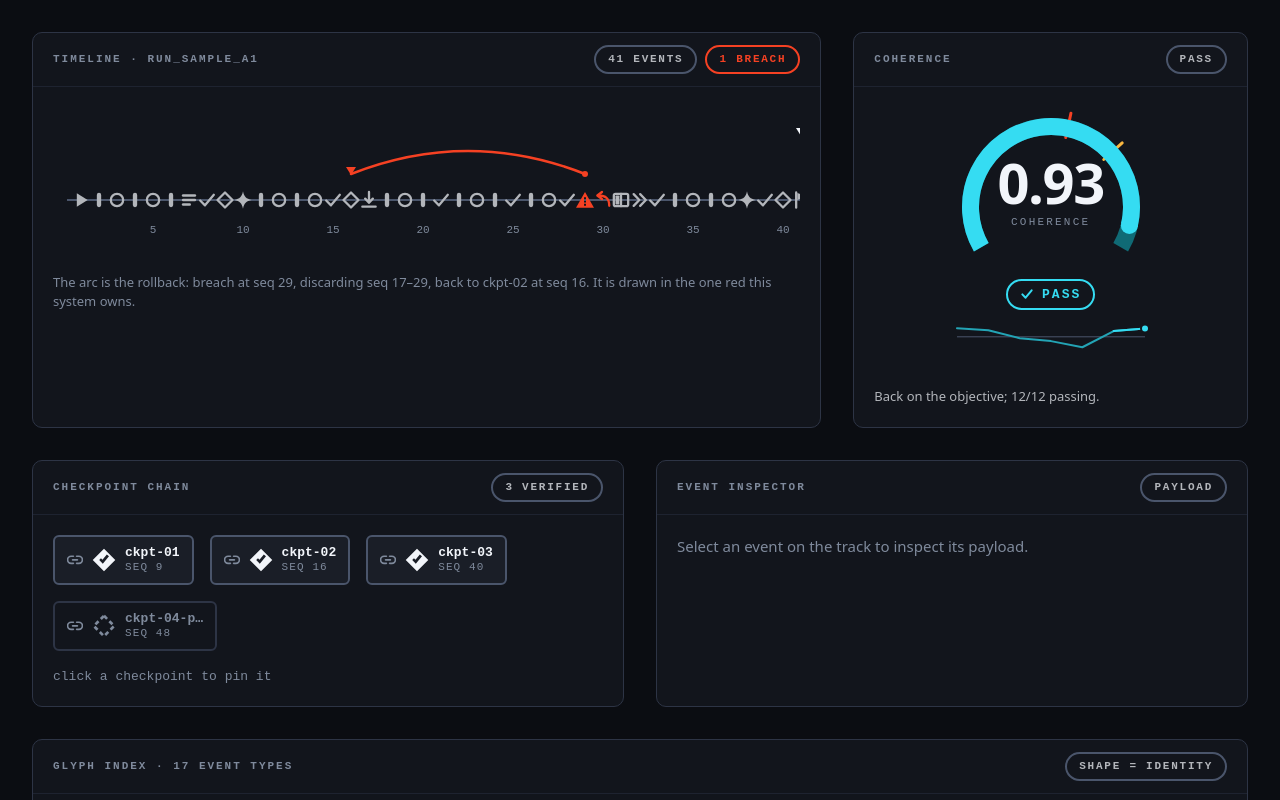
SampleScreen › wires the timeline selection through to the inspector
expect the text "Select an event on the track to inspect its payload." is shown: met, box [677,536,1028,556]
Click the button named "seq 29 · Breach". click: [585, 200]
box: [570,184,600,214]
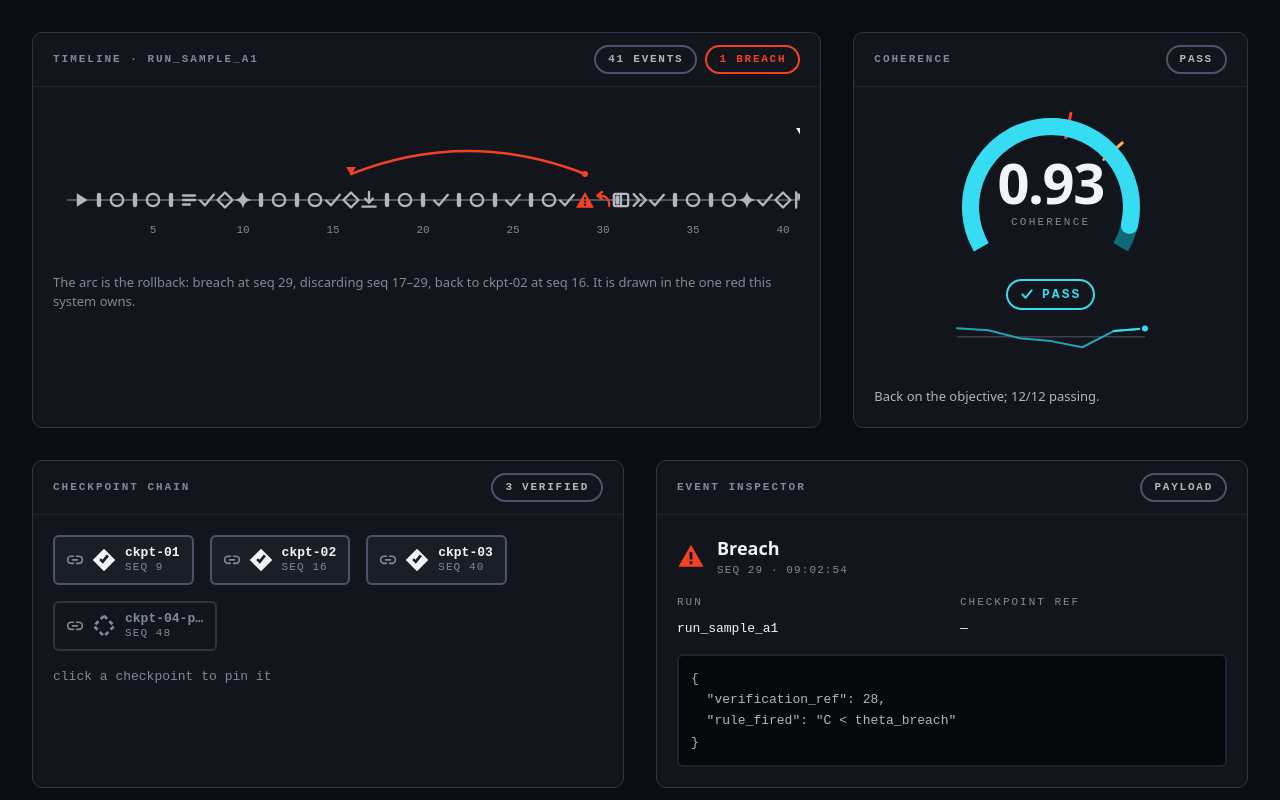
expect the text "{ \"verification_ref\": 28, \"rule_fired\": \"C < theta_breach\" }" is shown: met, box [677,654,1227,767]
expect the text "seq 29 · 09:02:54" is shown: met, box [717,562,848,578]
